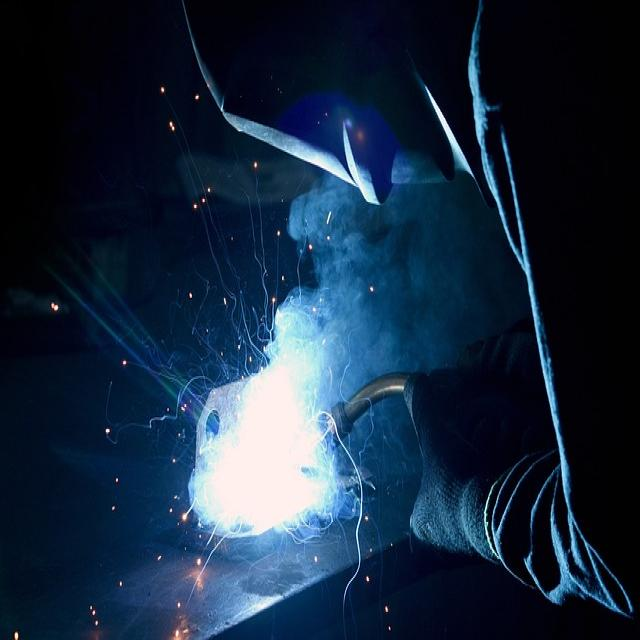welding: (203, 363, 336, 530)
